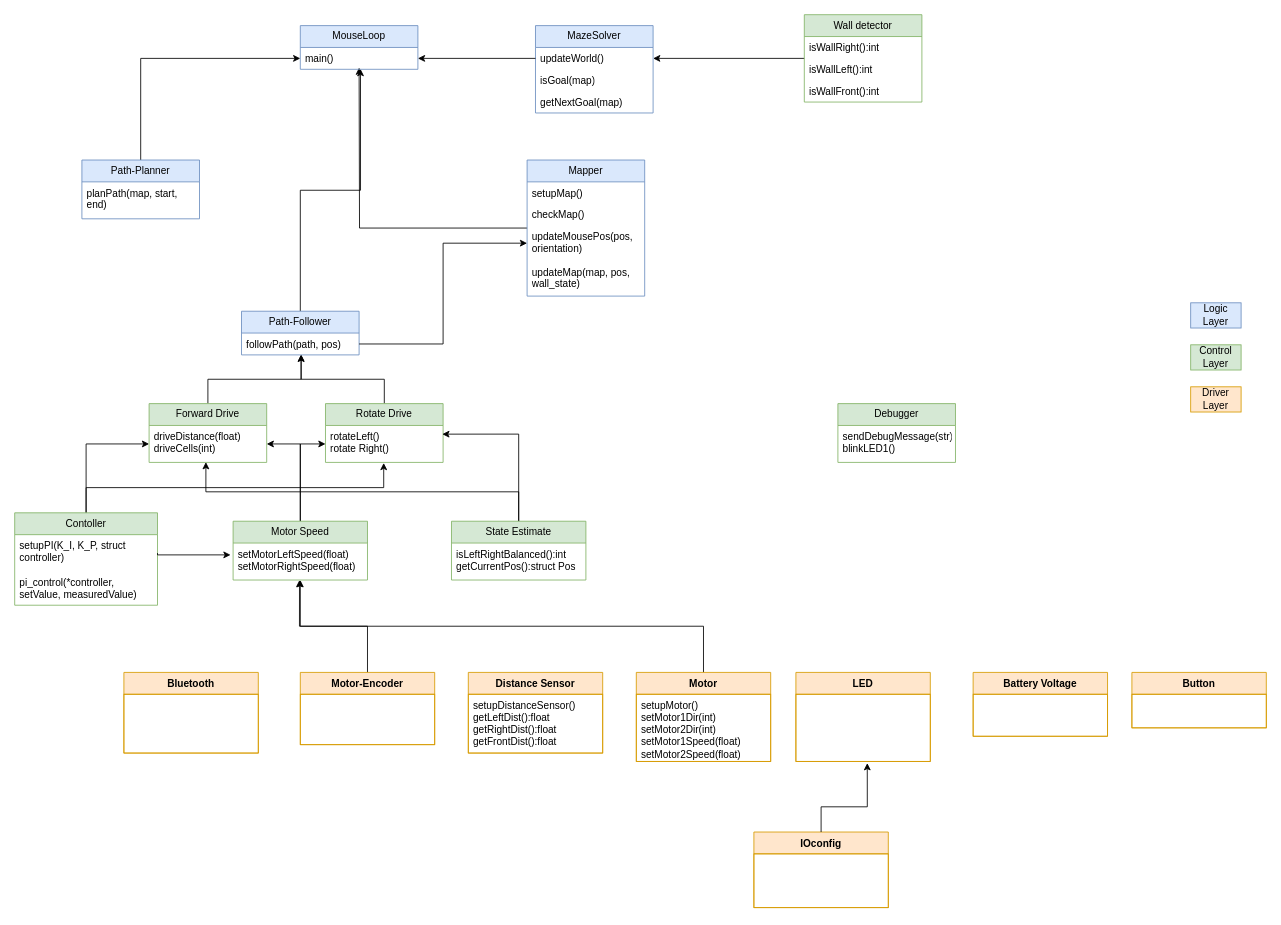
The diagram is 1281 pixels wide and 925 high, and some of its shapes have lost their labels. Here are the shapes that lost their labels. From the top down, the centre of each, then its label:
At (x=190, y=723): "setupBT() connectBT() sendMessage(string)".
At (x=367, y=719): "setupMotorEncoder() getCurPos():int getVelocity():float".
At (x=862, y=727): "setLED1(int) setLED2(int) setLED3(int)".
At (x=1040, y=714): "getBatteryVoltage()".
At (x=1198, y=710): "setupButton(*func)".
At (x=820, y=880): "setupIO()".
